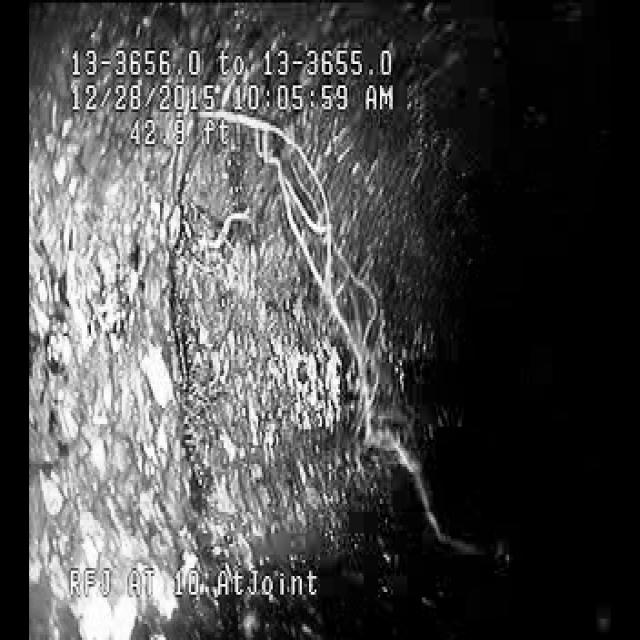Crack: (154, 199, 254, 524)
